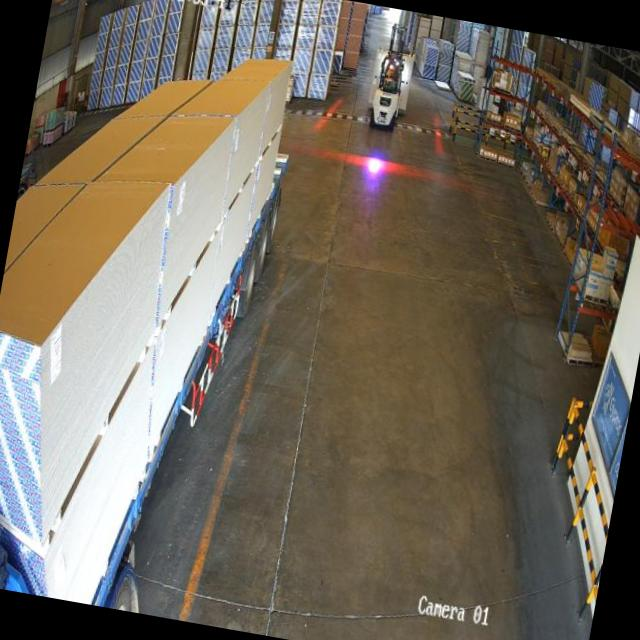forklift: (366, 49, 409, 136)
